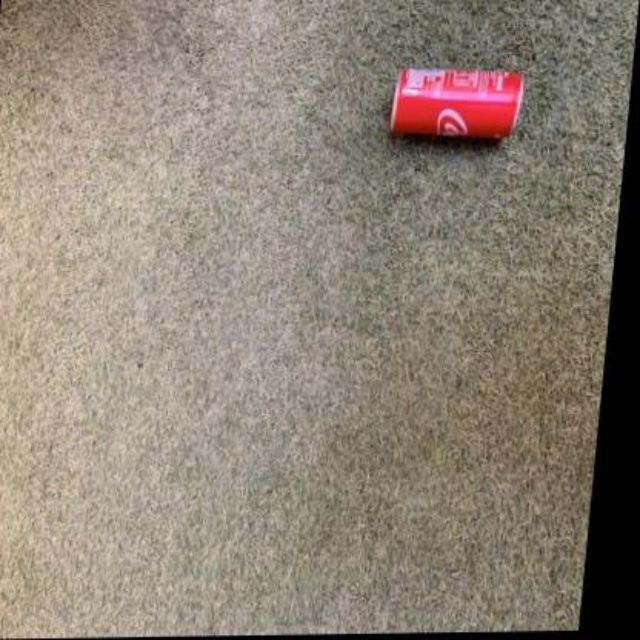trash: (391, 68, 522, 137)
